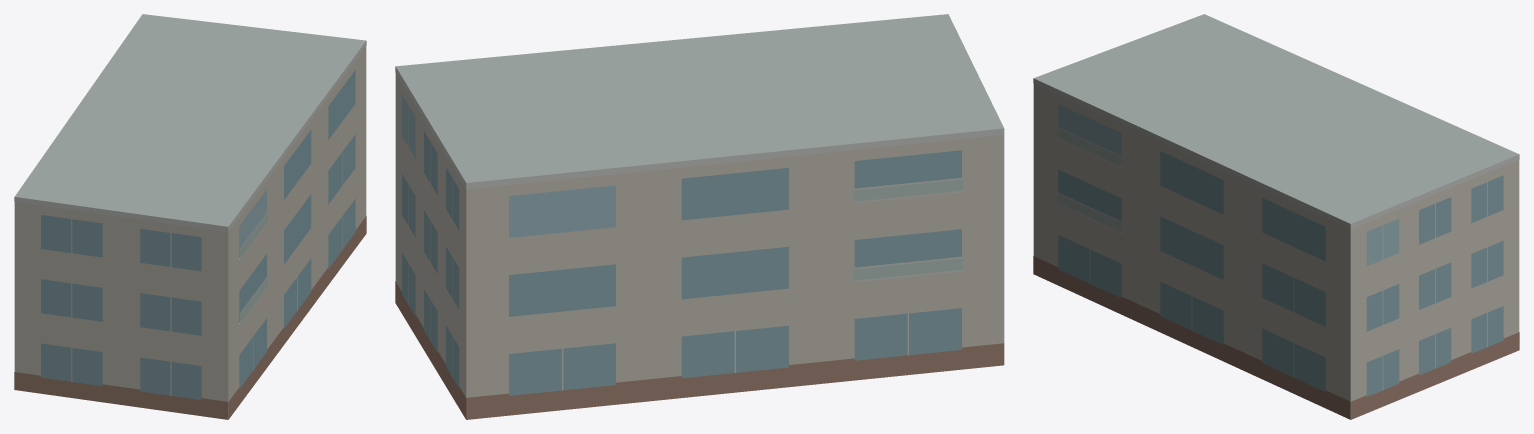
Rendered from survey-upis-32847886.glb.
3 views of the same model, side by side, from view 1: azimuth 30°, elevation 25°; view 2: azimuth 150°, elevation 25°; view 3: azimuth 270°, elevation 25° (orthographic). The views are drawn at different scales.
Visible parts, largest first — view 1: survey-upis-32847886.tmp; view 2: survey-upis-32847886.tmp; view 3: survey-upis-32847886.tmp.
Part boxes in pixels (x1,y1,x2,y2): survey-upis-32847886.tmp: (14,14,366,419); survey-upis-32847886.tmp: (395,14,1004,419); survey-upis-32847886.tmp: (1033,14,1519,419).
Size of the model in its own units: 21.04 by 9.15 by 20.58.
